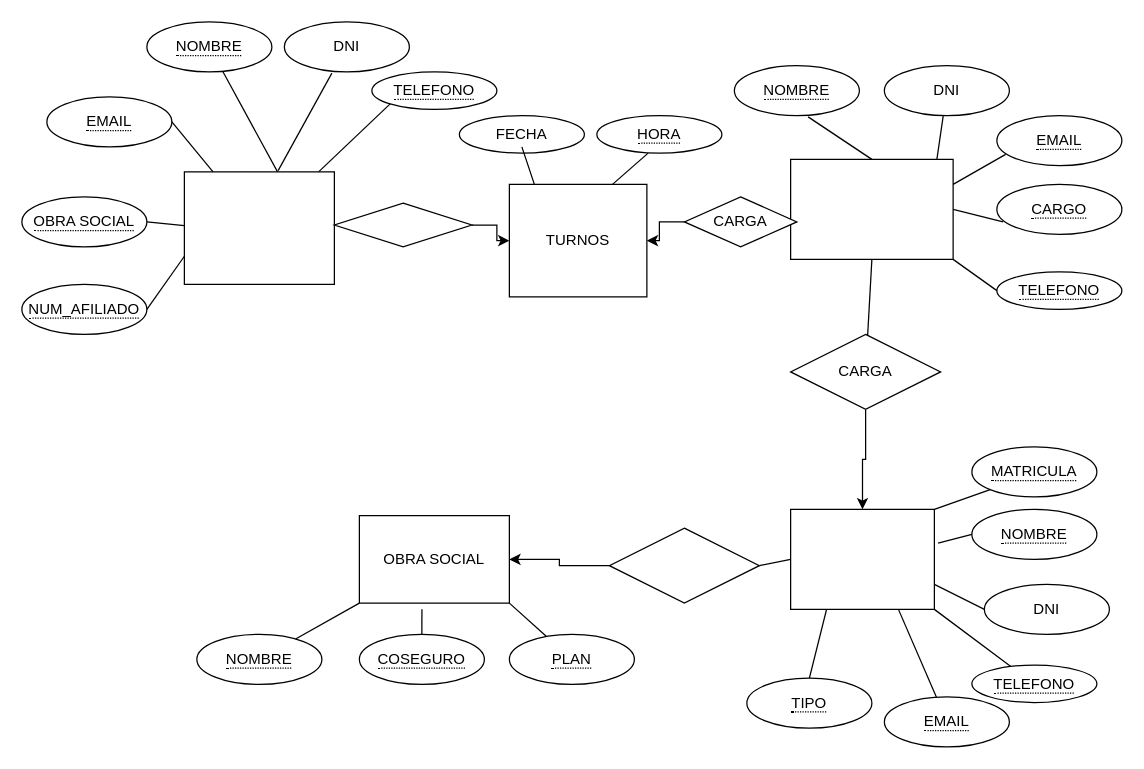
Image size: 1144x769. Some labels were removed from this diagram. Here are the shapes that lost their labels. From the top down, the centre of each, then its label:
the point at 258,227: PACIENTE
the point at 402,224: SELECCIONA
the point at 871,208: ADMINISTRADOR
the point at 683,565: ATIENDE POR
the point at 861,558: ESPECIALISTA
